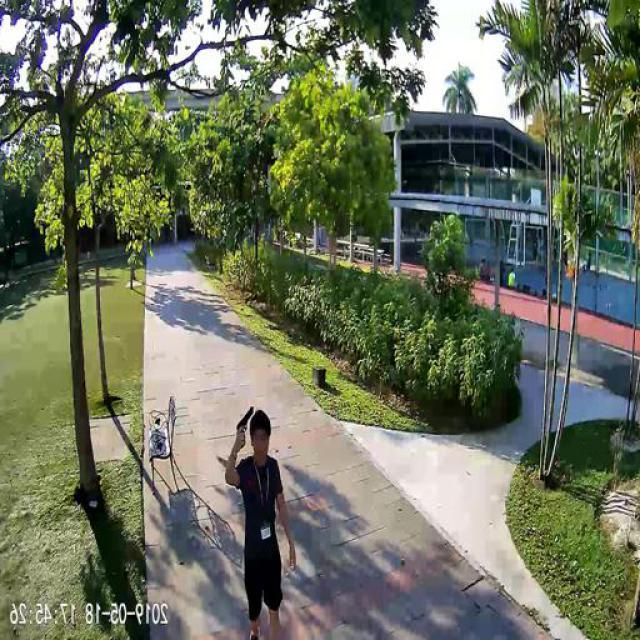Gun: (238, 402, 258, 432)
